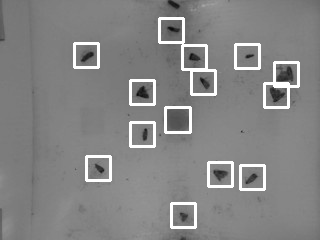insect: (274, 64, 295, 82), (267, 85, 288, 103), (211, 167, 229, 182), (134, 83, 150, 99), (243, 171, 258, 186), (198, 75, 212, 91), (79, 49, 94, 63), (165, 0, 181, 10), (92, 162, 105, 174), (177, 210, 189, 223), (187, 50, 201, 61), (141, 126, 150, 142), (166, 24, 181, 33), (244, 52, 256, 60)
